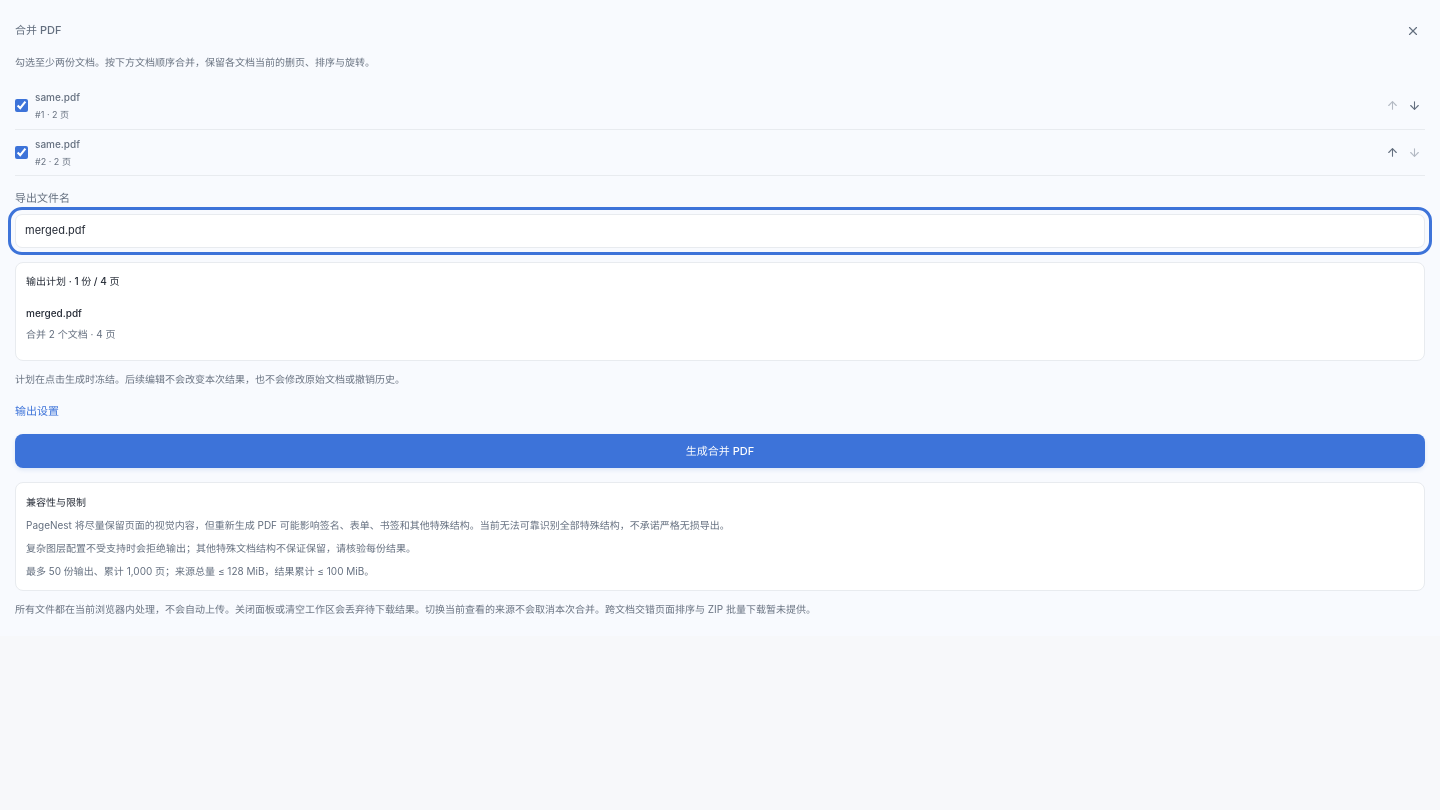
Scenario: PDF merge and split operation panel › blocks duplicate starts and keeps cancellation busy until the running output settles
Later steps or results of the test are not shown.
Click the button "生成合并 PDF": (720, 451) [15,434,1425,468]
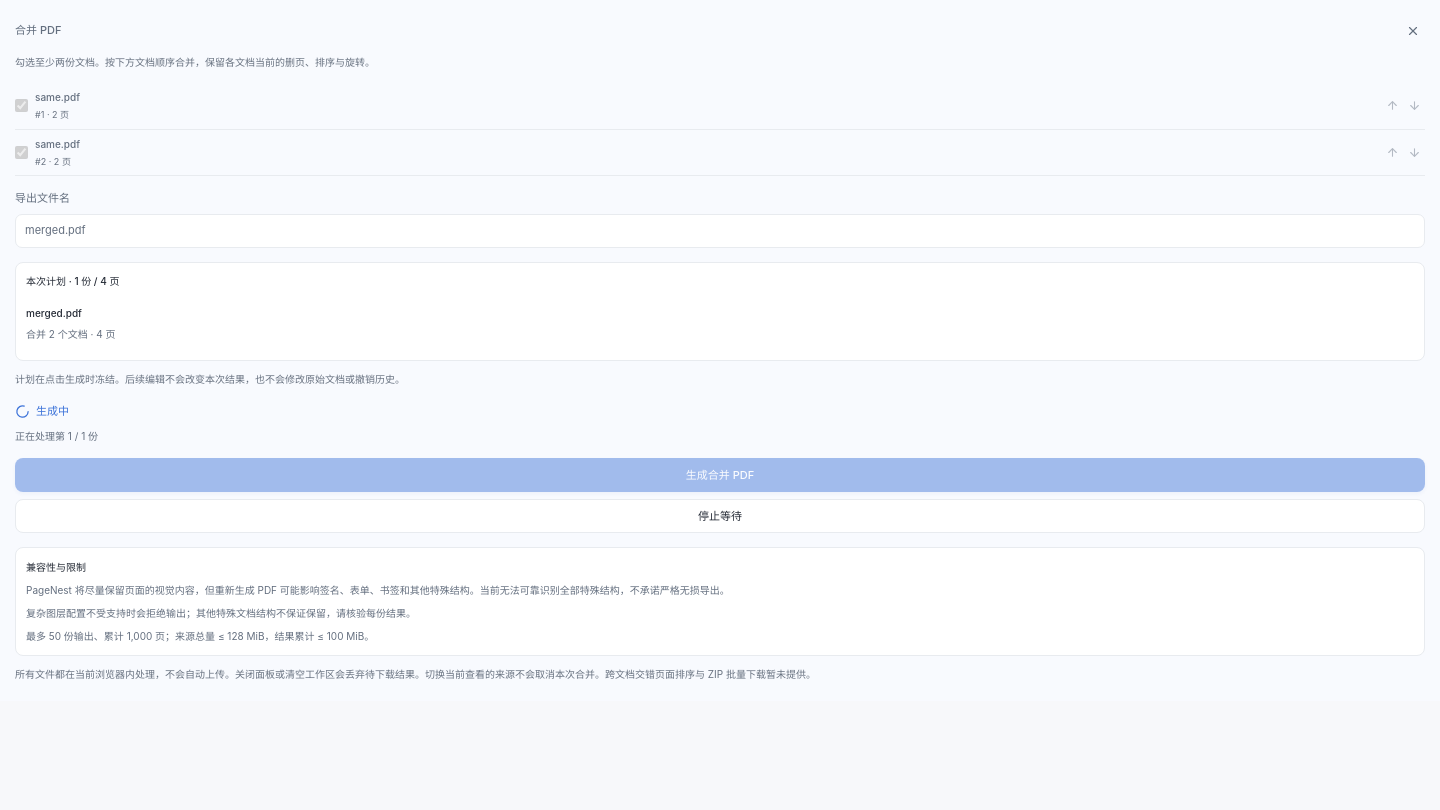
Click the button "生成合并 PDF": (720, 475) [15,458,1425,492]
Check: the button "生成合并 PDF" is disabled, box [15,458,1425,492]
Check: the field labelled "导出文件名" is disabled, box [15,214,1425,248]
Check: the message shows "生成中", box [36,404,69,418]
Click the button "停止等待": (720, 516) [15,499,1425,533]
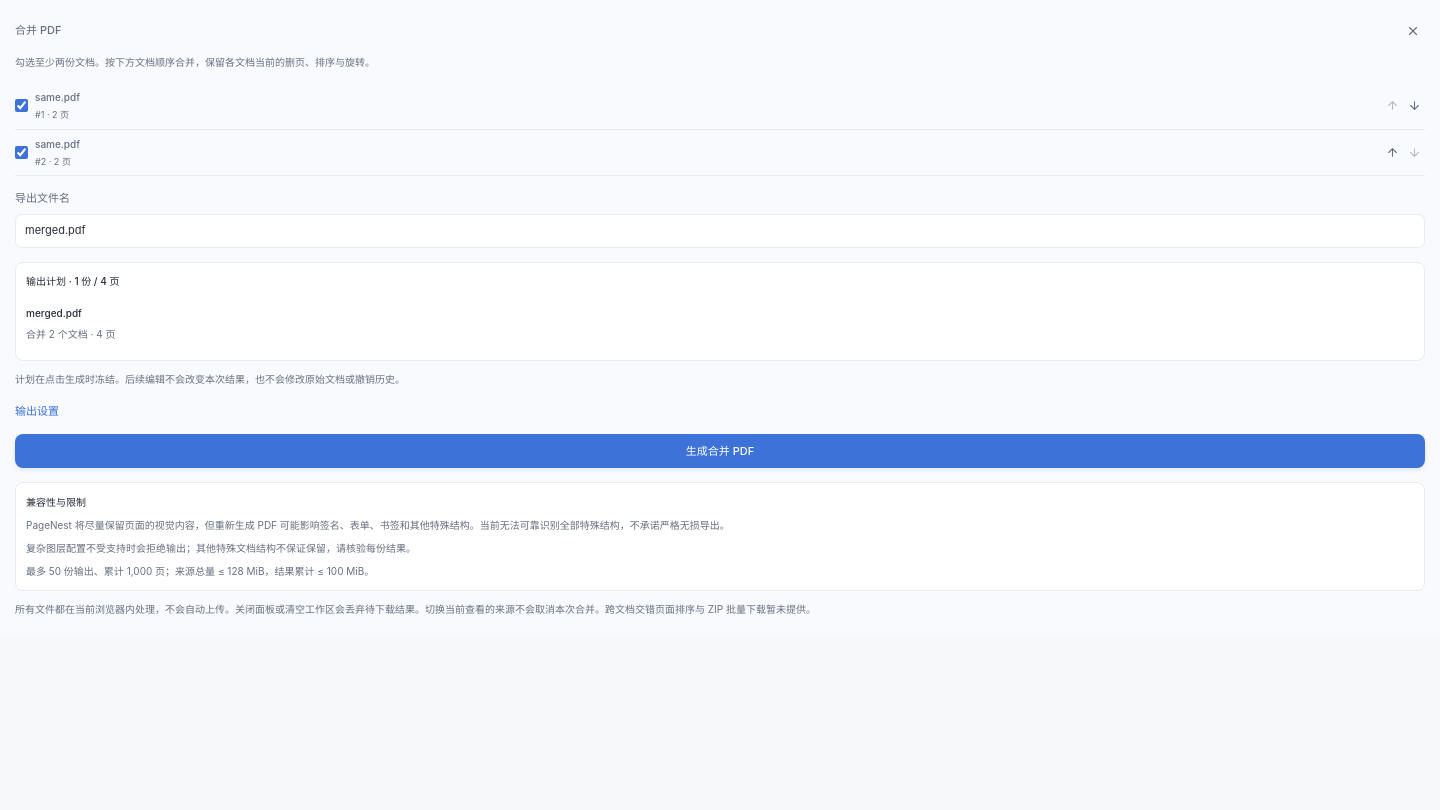
Check: the button "生成合并 PDF" is enabled, box [15,434,1425,468]
